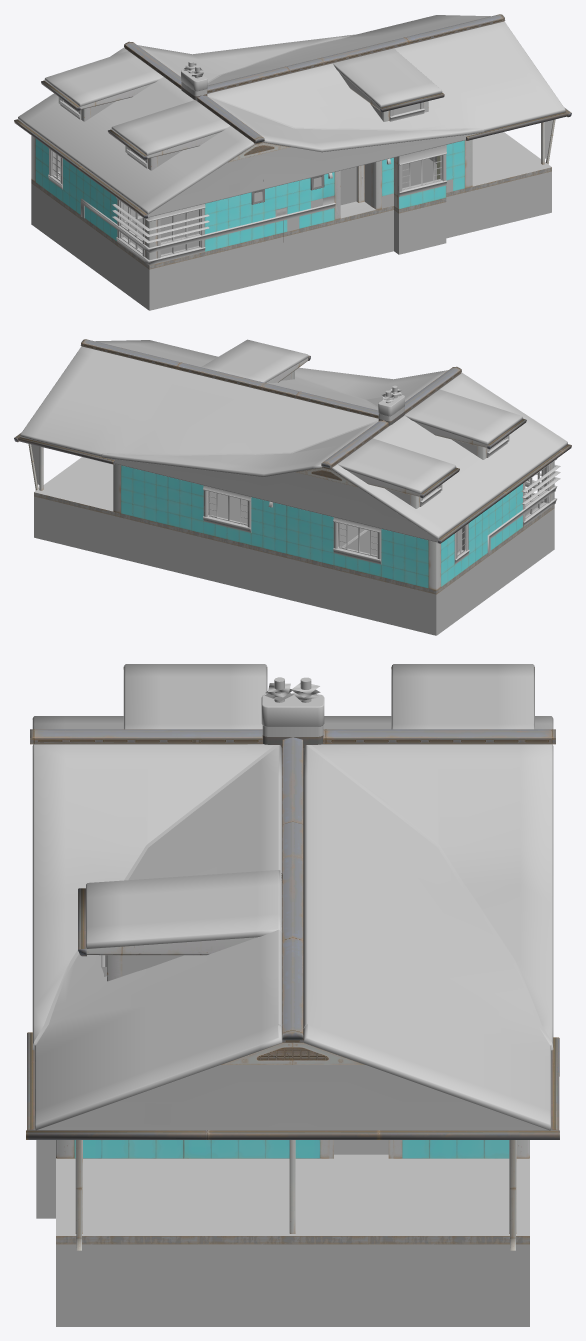
Rendered from houseFull.FBX.
The picture shows the model from 3 angles, top to bottom: view 1: azimuth 30°, elevation 25°; view 2: azimuth 150°, elevation 25°; view 3: azimuth 270°, elevation 25°; orthographic projection. The views are drawn at different scales.
Parts seen in each view (by area): view 1: Res01PlayerHouseRoof:5 - L1_DoormeC01:5, Res01PlayerHouse:8, Res01PlayerHouse:10, Res01PlayerHouseRoof:11 - L1_DoormeC01:11 - L1_ChimneyC01:11, Res01PlayerHouseRoof:12 - L1_DoormeC01:12, Res01PlayerHouse:13 - L2_Window frameC:13 - L2_PropsC:13, Res01PlayerHouse:11 - L2_Window frameC:11 - L2_PropsC:11, Res01PlayerHouseInterior:3, Res01PlayerHouseRoof:13 - L1_DoormeC01:13 - L1_ChimneyC01:13, L2_Window frameC:15, Res01PlayerHouseRoof:9 - L2_PropsC01:9 - L1_ChimneyC01:9; view 2: Res01PlayerHouseRoof:5 - L1_DoormeC01:5, Res01PlayerHouse:8, Res01PlayerHouse:10, Res01PlayerHouseRoof:11 - L1_DoormeC01:11 - L1_ChimneyC01:11, Res01PlayerHouseRoof:12 - L1_DoormeC01:12, Res01PlayerHouse:13 - L2_Window frameC:13 - L2_PropsC:13, Res01PlayerHouse:11 - L2_Window frameC:11 - L2_PropsC:11, Res01PlayerHouseInterior:3, Res01PlayerHouseRoof:13 - L1_DoormeC01:13 - L1_ChimneyC01:13, L2_Window frameC:15, Res01PlayerHouseInterior:4, Intewall:22 (+1 smaller); view 3: Res01PlayerHouseRoof:5 - L1_DoormeC01:5, Res01PlayerHouse:8, Res01PlayerHouseRoof:11 - L1_DoormeC01:11 - L1_ChimneyC01:11, Res01PlayerHouseRoof:12 - L1_DoormeC01:12, Res01PlayerHouse:10, Res01PlayerHouse:11 - L2_Window frameC:11 - L2_PropsC:11, Res01PlayerHouseRoof:13 - L1_DoormeC01:13 - L1_ChimneyC01:13, Res01PlayerHouseRoof:9 - L2_PropsC01:9 - L1_ChimneyC01:9, Res01PlayerHouseInterior:4.
Boxes of the visible parts, x1,y1,x2,y2 form: Res01PlayerHouseRoof:5 - L1_DoormeC01:5: [18, 15, 565, 214]; Res01PlayerHouse:8: [31, 132, 551, 310]; Res01PlayerHouse:10: [35, 139, 464, 251]; Res01PlayerHouseRoof:11 - L1_DoormeC01:11 - L1_ChimneyC01:11: [14, 14, 571, 218]; Res01PlayerHouseRoof:12 - L1_DoormeC01:12: [91, 101, 480, 217]; Res01PlayerHouse:13 - L2_Window frameC:13 - L2_PropsC:13: [48, 145, 452, 265]; Res01PlayerHouse:11 - L2_Window frameC:11 - L2_PropsC:11: [31, 135, 551, 269]; Res01PlayerHouseInterior:3: [57, 158, 436, 254]; Res01PlayerHouseRoof:13 - L1_DoormeC01:13 - L1_ChimneyC01:13: [59, 60, 424, 168]; L2_Window frameC:15: [52, 151, 442, 256]; Res01PlayerHouseRoof:9 - L2_PropsC01:9 - L1_ChimneyC01:9: [184, 63, 552, 193]; Res01PlayerHouseRoof:5 - L1_DoormeC01:5: [20, 339, 567, 539]; Res01PlayerHouse:8: [34, 457, 554, 635]; Res01PlayerHouse:10: [121, 465, 522, 588]; Res01PlayerHouseRoof:11 - L1_DoormeC01:11 - L1_ChimneyC01:11: [14, 339, 571, 543]; Res01PlayerHouseRoof:12 - L1_DoormeC01:12: [105, 373, 476, 542]; Res01PlayerHouse:13 - L2_Window frameC:13 - L2_PropsC:13: [203, 458, 560, 564]; Res01PlayerHouse:11 - L2_Window frameC:11 - L2_PropsC:11: [34, 461, 554, 594]; Res01PlayerHouseInterior:3: [216, 498, 541, 555]; Res01PlayerHouseRoof:13 - L1_DoormeC01:13 - L1_ChimneyC01:13: [378, 385, 508, 506]; L2_Window frameC:15: [208, 466, 547, 557]; Res01PlayerHouseInterior:4: [209, 491, 238, 515]; Intewall:22: [339, 523, 461, 553]; Res01PlayerHouseRoof:5 - L1_DoormeC01:5: [32, 664, 553, 1130]; Res01PlayerHouse:8: [36, 1140, 529, 1326]; Res01PlayerHouseRoof:11 - L1_DoormeC01:11 - L1_ChimneyC01:11: [26, 666, 559, 1250]; Res01PlayerHouseRoof:12 - L1_DoormeC01:12: [37, 955, 548, 1130]; Res01PlayerHouse:10: [74, 1140, 509, 1158]; Res01PlayerHouse:11 - L2_Window frameC:11 - L2_PropsC:11: [56, 1140, 529, 1244]; Res01PlayerHouseRoof:13 - L1_DoormeC01:13 - L1_ChimneyC01:13: [101, 677, 324, 976]; Res01PlayerHouseRoof:9 - L2_PropsC01:9 - L1_ChimneyC01:9: [144, 683, 320, 1125]; Res01PlayerHouseInterior:4: [334, 1140, 388, 1154].
Size of the model in its own units: 1728 by 690 by 938.
